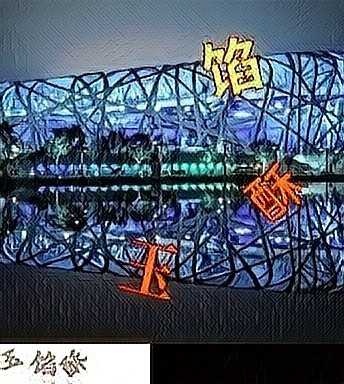CBD6: (240, 160, 305, 225)
CFDA: (200, 33, 265, 98)
D3F1: (118, 236, 183, 301)
